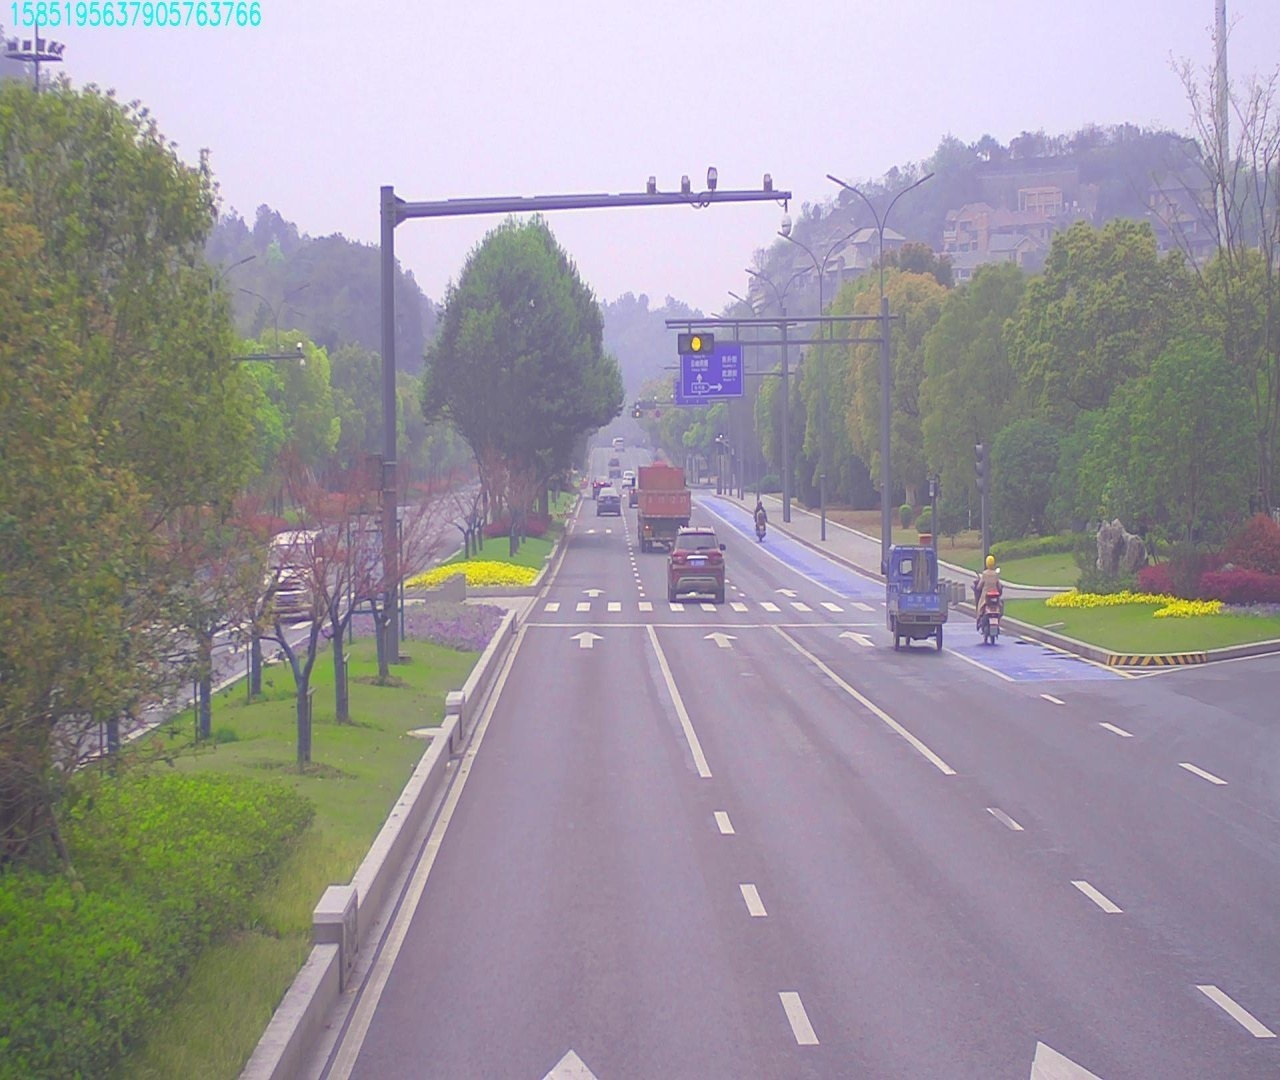yellow: (675, 329, 712, 352)
